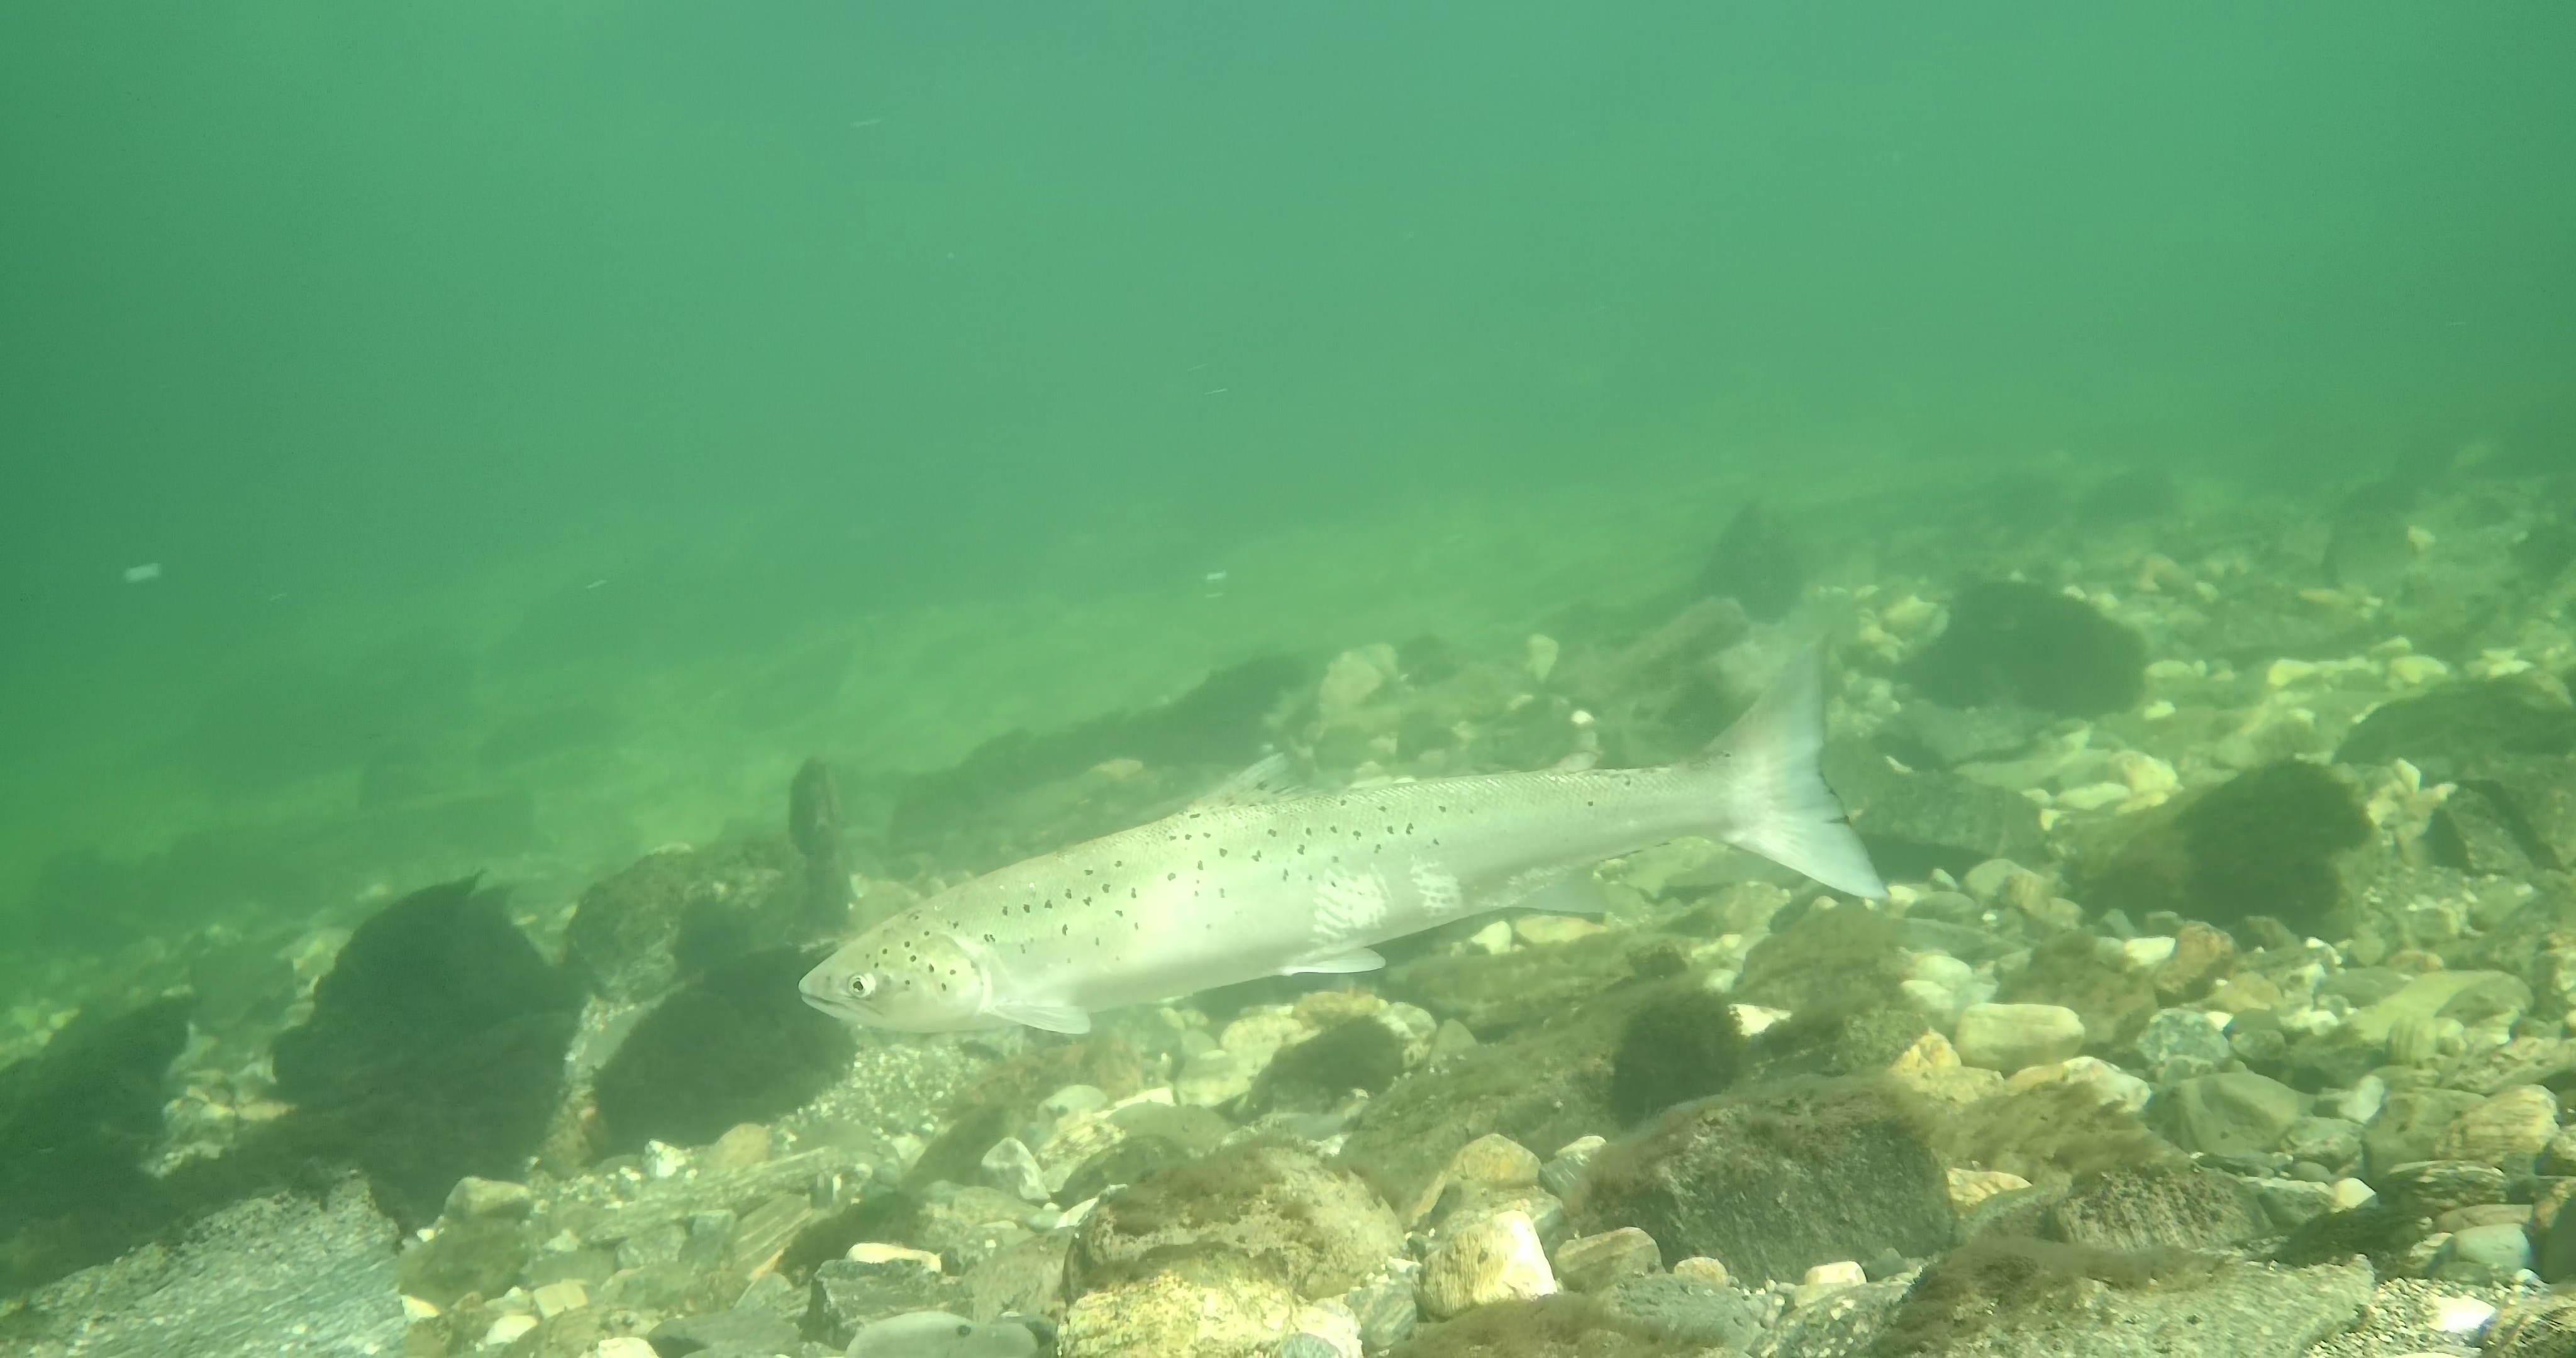salmon: (796, 630, 1895, 1038)
